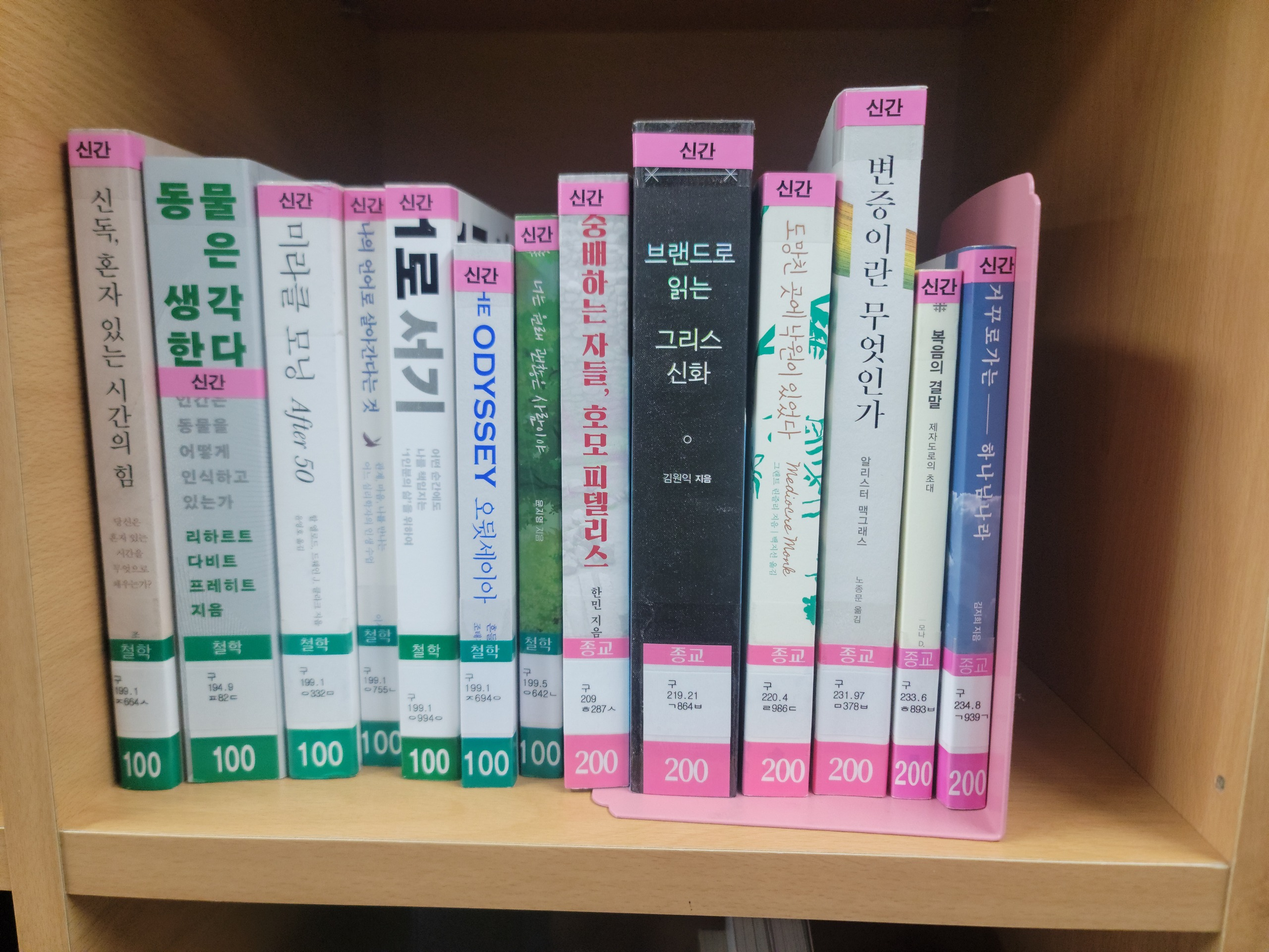book-spine: (141, 157, 283, 783), (632, 117, 753, 799), (812, 87, 926, 798), (65, 129, 178, 791), (740, 173, 836, 797), (257, 183, 354, 782), (384, 185, 460, 781), (559, 176, 630, 791), (943, 247, 1016, 810), (889, 271, 963, 802), (341, 190, 401, 783), (453, 244, 514, 787), (515, 215, 563, 788)
